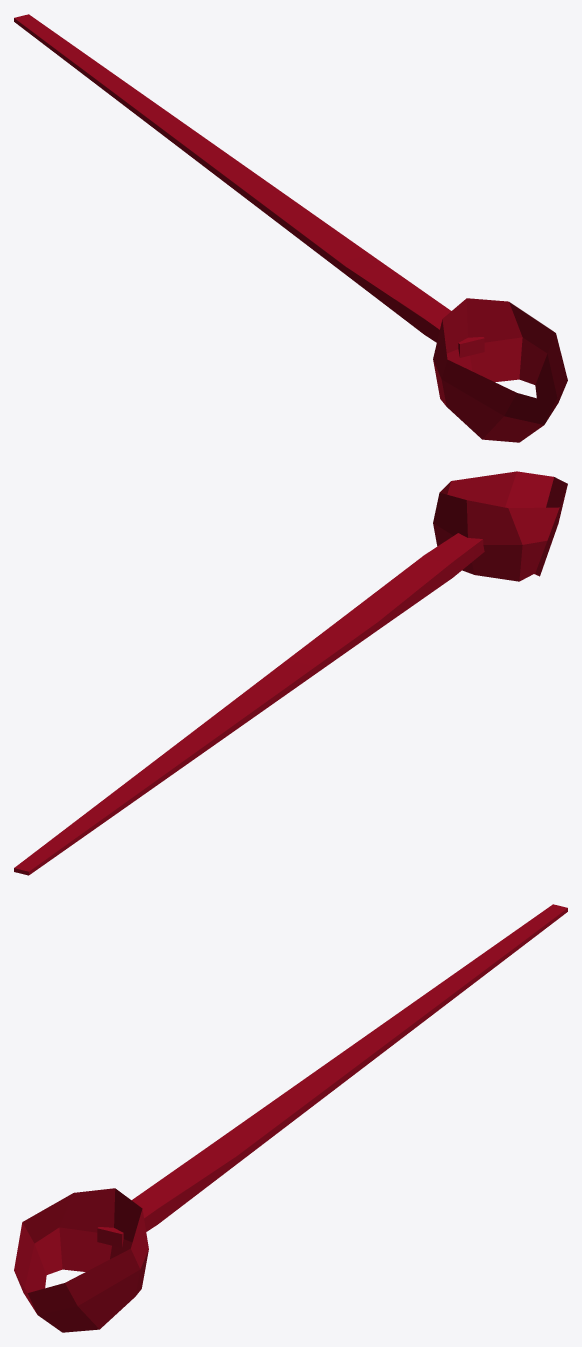
File: Player_Scarf.FBX
3 views of the same model, one above another, from view 1: azimuth 30°, elevation 25°; view 2: azimuth 150°, elevation 25°; view 3: azimuth 330°, elevation 25° (orthographic).
Visible parts, largest first — view 1: Scarf; view 2: Scarf; view 3: Scarf.
Boxes of the visible parts, bbox=[...] form: Scarf: bbox=[14, 14, 567, 442]; Scarf: bbox=[14, 471, 567, 875]; Scarf: bbox=[14, 904, 567, 1332].
Bounding box in the file's own units: 16.35 × 15.18 × 138.
